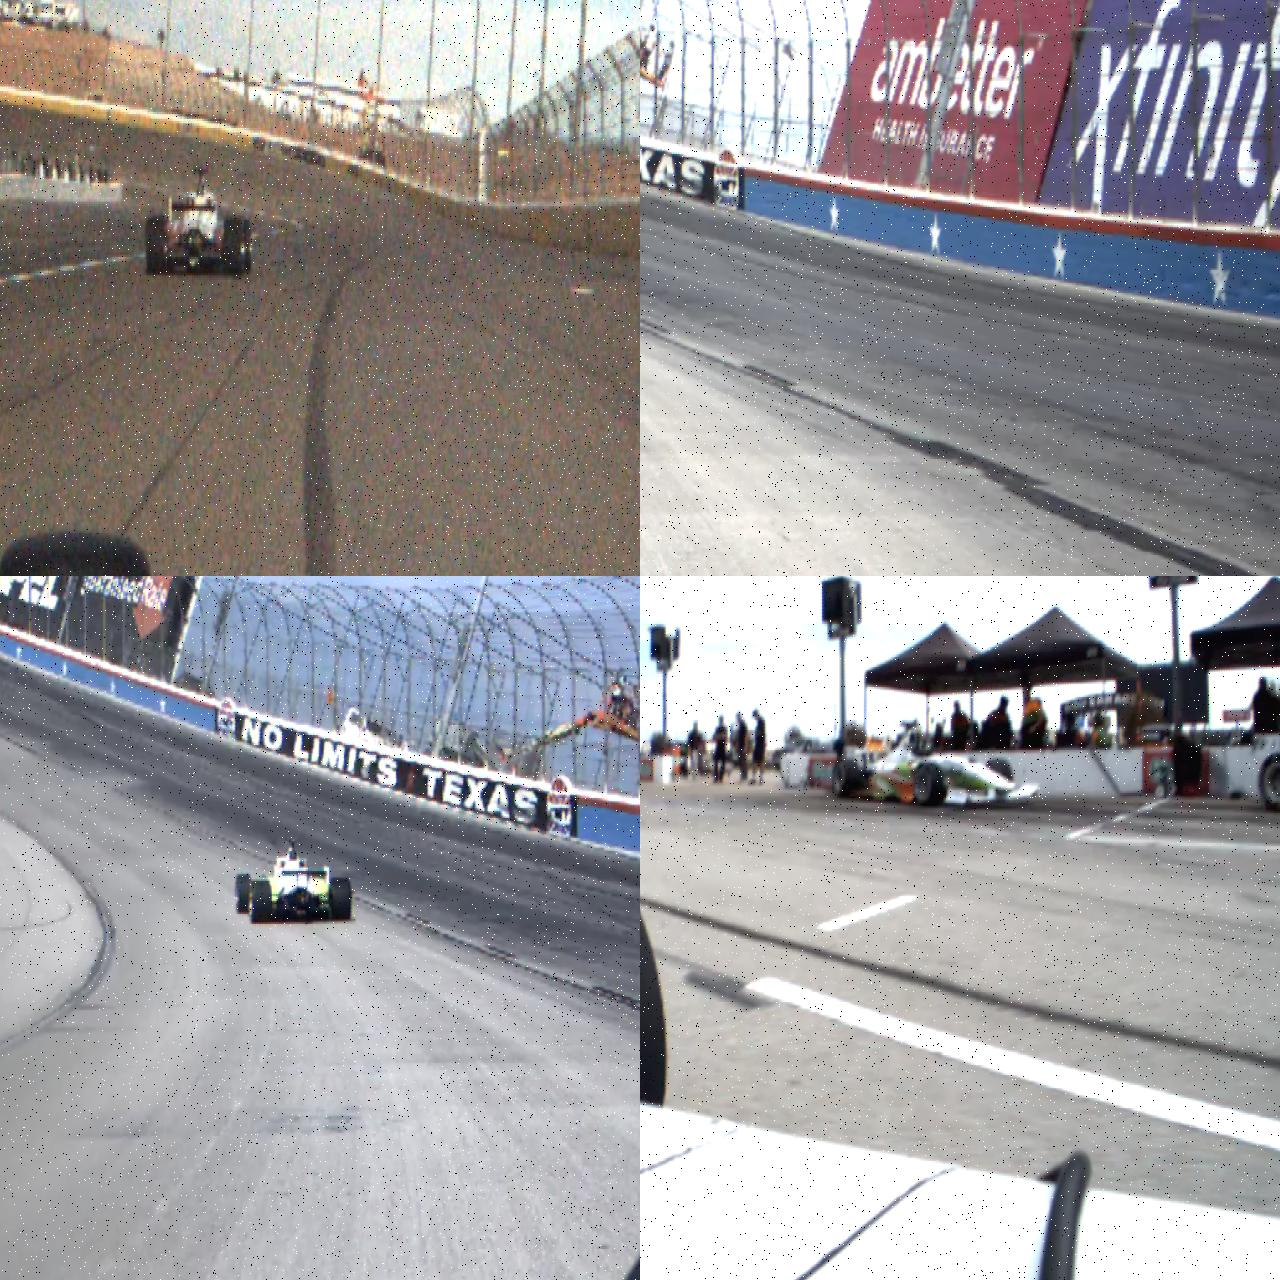AV: (831, 719, 1041, 808), (145, 166, 253, 277), (234, 837, 353, 924)
Wheel: (914, 763, 947, 806), (1258, 753, 1280, 812), (145, 216, 166, 275), (224, 217, 243, 275), (832, 760, 859, 799), (987, 758, 1014, 797), (250, 880, 272, 922), (331, 877, 352, 921), (234, 873, 251, 913), (240, 220, 252, 272)
